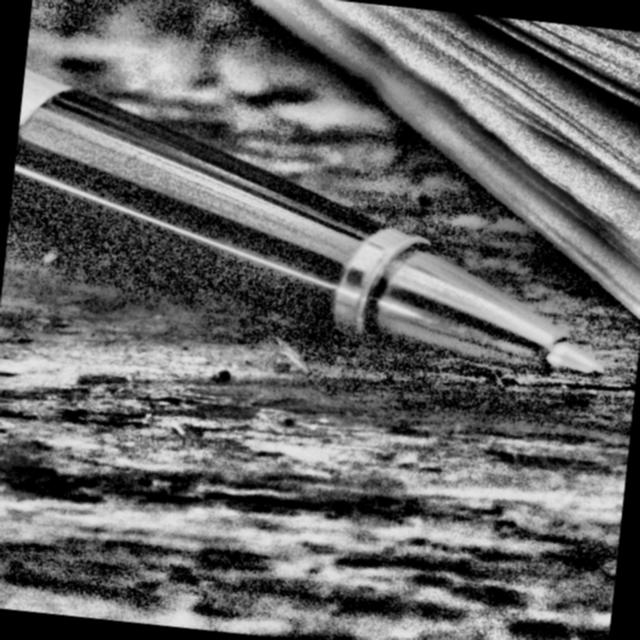Pen: (0, 42, 640, 418)
